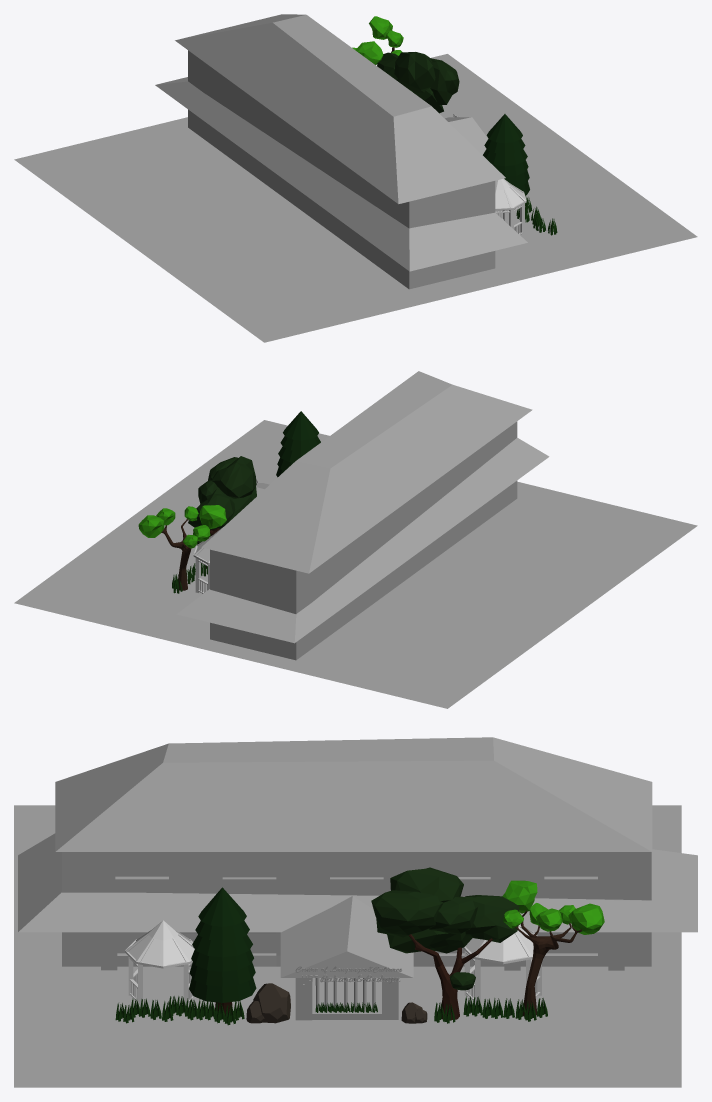
The model's file is GedungUPT.obj.
3 views of the same model, one above another, from view 1: azimuth 30°, elevation 25°; view 2: azimuth 150°, elevation 25°; view 3: azimuth 270°, elevation 25° (orthographic). The views are drawn at different scales.
Visible parts, largest first — view 1: Plane_Plane.001, Cube.003_Cube.004, Cube.001_Cube.002, Cube.004_Cube.005, Tree2.2_Cube.020, Tree3.1_Cylinder.013, Tree1.1_Icosphere.005, Cube.002_Cube.003; view 2: Plane_Plane.001, Cube.003_Cube.004, Cube.001_Cube.002, Cube.004_Cube.005, Tree2.2_Cube.020, Tree1.1_Icosphere.005, Tree3.1_Cylinder.013; view 3: Plane_Plane.001, Cube.003_Cube.004, Cube.001_Cube.002, Cube.004_Cube.005, Tree2.2_Cube.020, Cube.002_Cube.003, Tree3.1_Cylinder.013, Tree1.1_Icosphere.005, pCylinder3.001_Untitled.091, Stone3.1_Cube.030, pCylinder3_Untitled.036, Cube.005_Cube.006 (+5 smaller).
Boxes of the visible parts, x1=… form: Plane_Plane.001: x1=14, y1=54, x2=697, y2=342; Cube.003_Cube.004: x1=175, y1=14, x2=505, y2=204; Cube.001_Cube.002: x1=188, y1=50, x2=495, y2=289; Cube.004_Cube.005: x1=155, y1=77, x2=527, y2=271; Tree2.2_Cube.020: x1=377, y1=52, x2=459, y2=113; Tree3.1_Cylinder.013: x1=483, y1=114, x2=529, y2=195; Tree1.1_Icosphere.005: x1=352, y1=16, x2=403, y2=64; Cube.002_Cube.003: x1=445, y1=117, x2=487, y2=154; Plane_Plane.001: x1=14, y1=420, x2=697, y2=708; Cube.003_Cube.004: x1=201, y1=371, x2=532, y2=573; Cube.001_Cube.002: x1=210, y1=421, x2=517, y2=660; Cube.004_Cube.005: x1=176, y1=437, x2=549, y2=643; Tree2.2_Cube.020: x1=188, y1=456, x2=256, y2=568; Tree1.1_Icosphere.005: x1=138, y1=505, x2=226, y2=590; Tree3.1_Cylinder.013: x1=276, y1=411, x2=320, y2=477; Plane_Plane.001: x1=14, y1=805, x2=681, y2=1087; Cube.003_Cube.004: x1=55, y1=737, x2=652, y2=851; Cube.001_Cube.002: x1=62, y1=852, x2=651, y2=966; Cube.004_Cube.005: x1=18, y1=833, x2=697, y2=932; Tree2.2_Cube.020: x1=371, y1=867, x2=519, y2=1020; Cube.002_Cube.003: x1=280, y1=896, x2=413, y2=977; Tree3.1_Cylinder.013: x1=189, y1=887, x2=256, y2=1015; Tree1.1_Icosphere.005: x1=502, y1=880, x2=604, y2=1016; pCylinder3.001_Untitled.091: x1=128, y1=932, x2=194, y2=964; Stone3.1_Cube.030: x1=253, y1=983, x2=290, y2=1023; pCylinder3_Untitled.036: x1=465, y1=925, x2=533, y2=960; Cube.005_Cube.006: x1=295, y1=978, x2=312, y2=1020.
Size of the model in its own units: 10.07 by 3.34 by 10.31.
